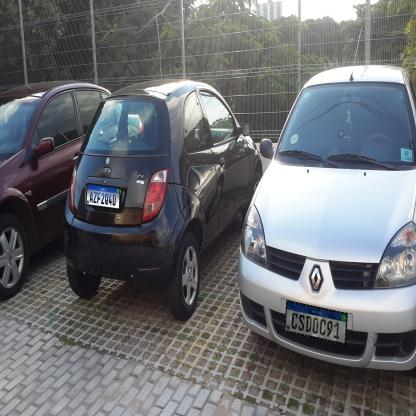PlacaM: (284, 300, 348, 345), (86, 183, 120, 210)
